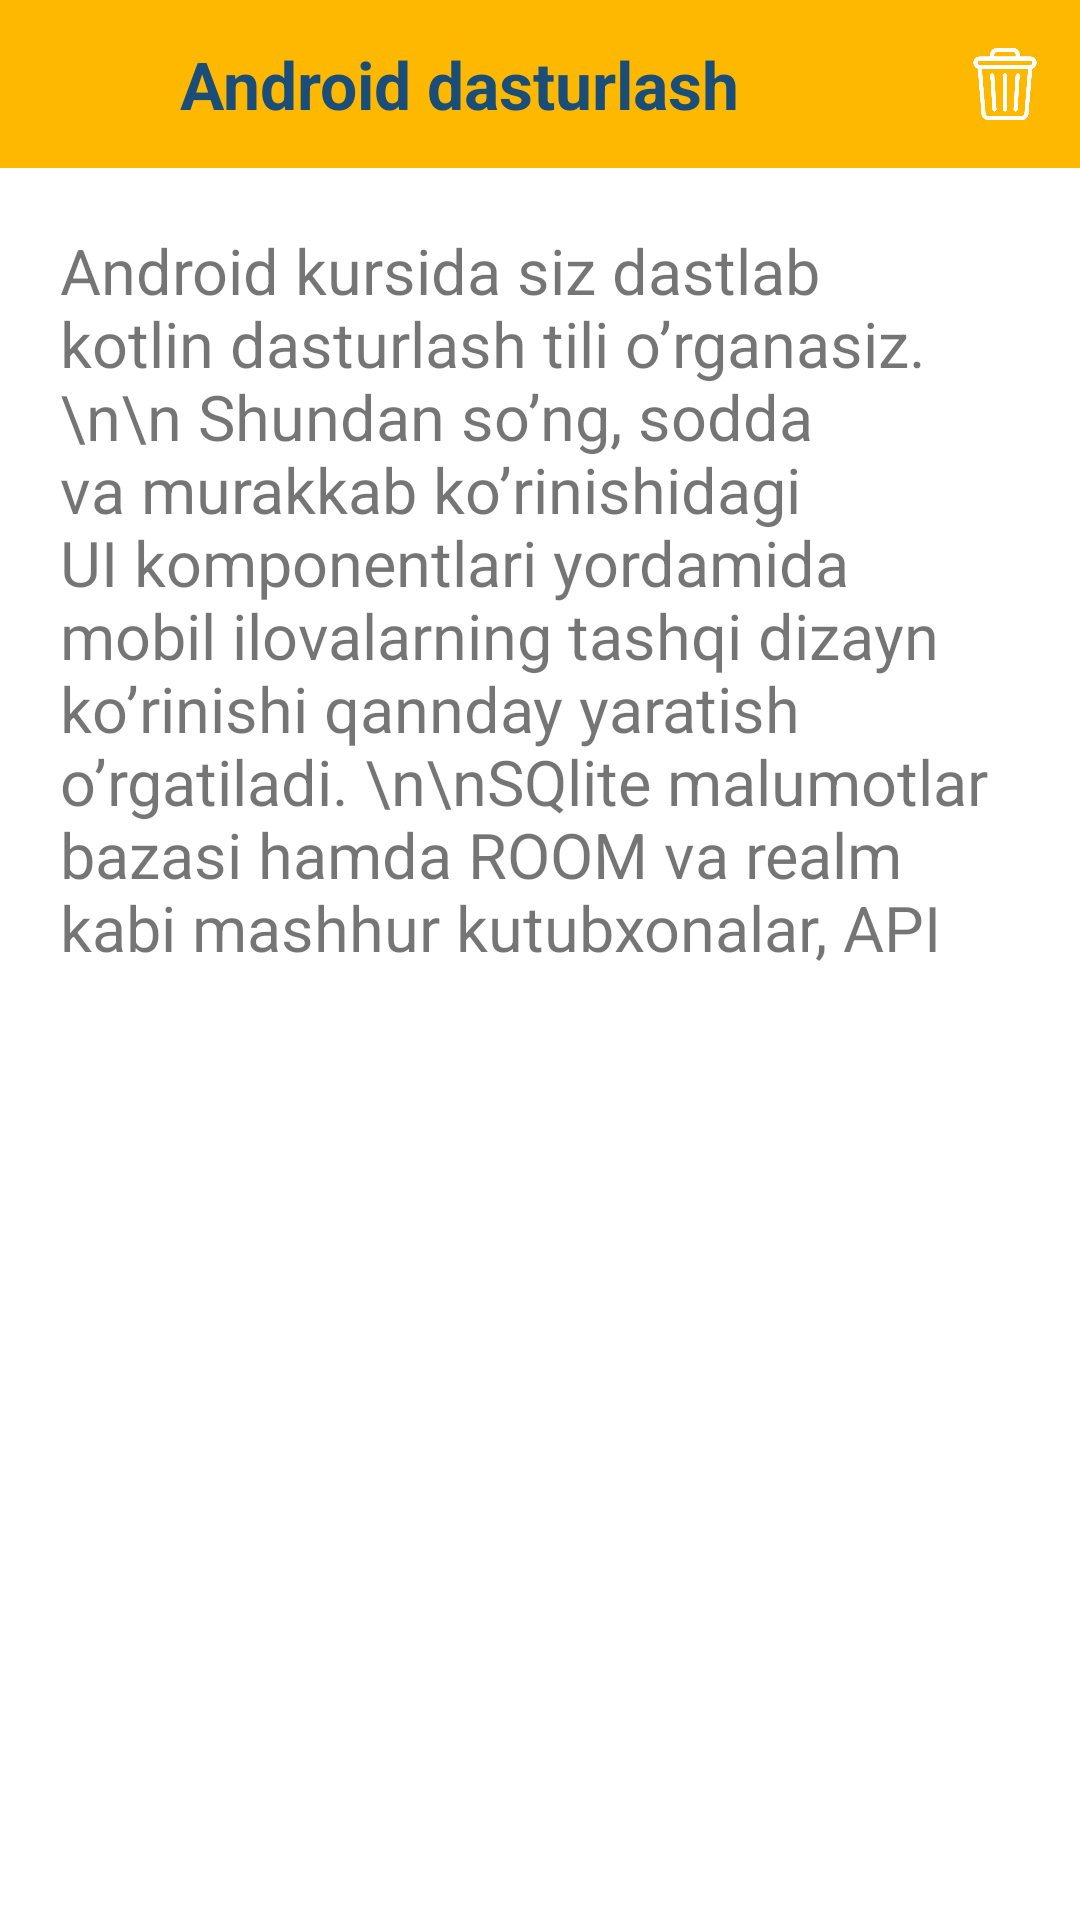

Where to tap for icons on this 1080 × 1920 app screen, as (x=x, y=y):
trash list mentor: (x=1005, y=84)
